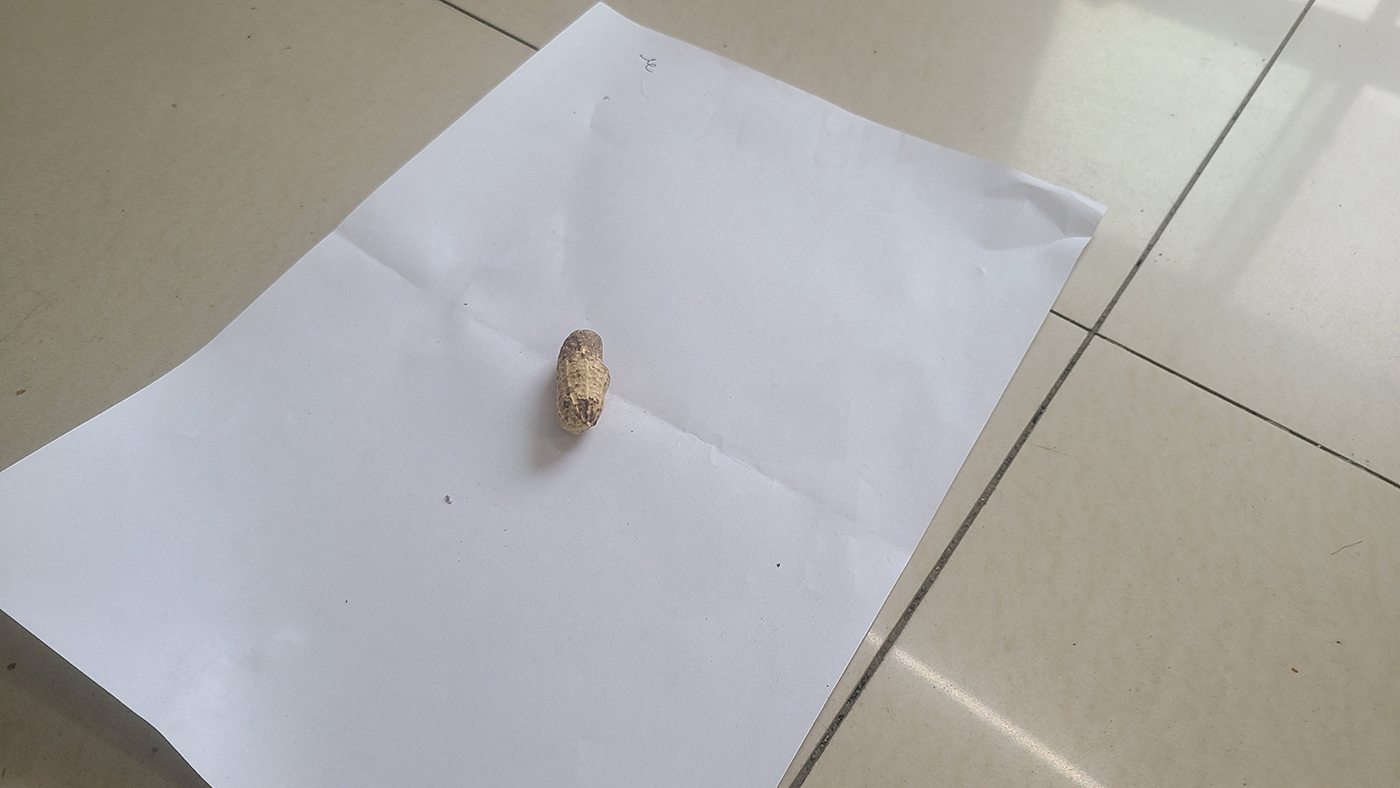h: (554, 327, 612, 433)
